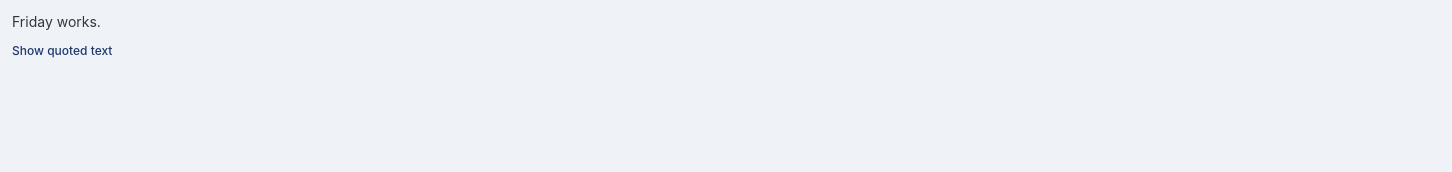
Test: the quoted email waits behind a button and the new text shows first
Expected: the text "Friday works." is shown, 12,13 -> 101,30
Expected: the text "Can we meet" is not shown
Click the button "Show quoted text": (62, 51) 12,43 -> 112,59
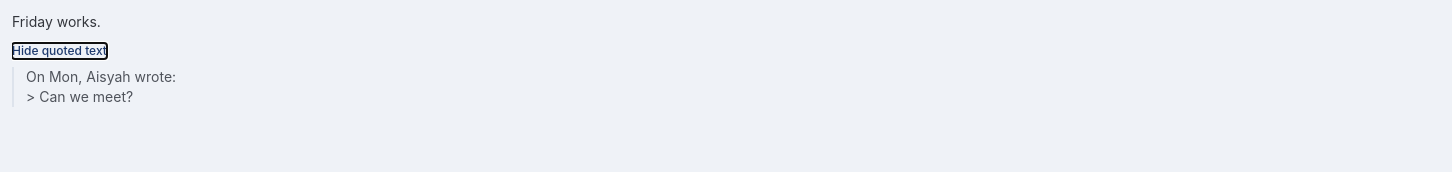
Expected: the text "On Mon, Aisyah wrote: > Can we meet?" is shown, 12,67 -> 1451,107
